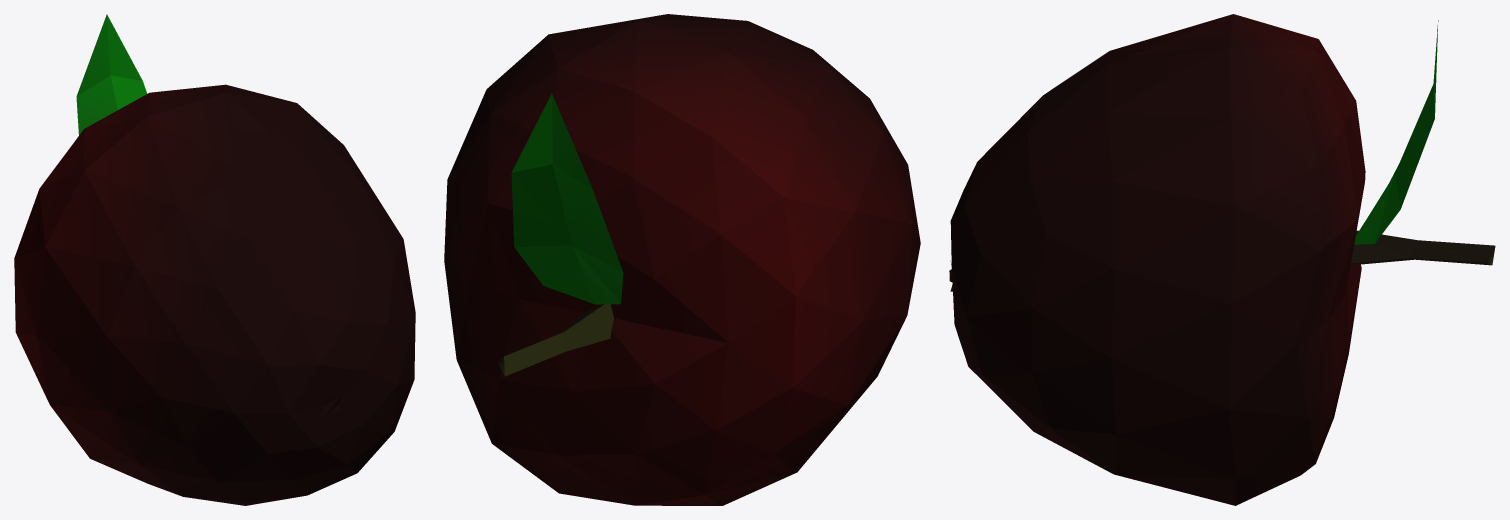
File: Apple.fbx
3 renders of one model, left to right at view 1: azimuth 30°, elevation 25°; view 2: azimuth 150°, elevation 25°; view 3: azimuth 270°, elevation 25°, orthographic. The views are drawn at different scales.
Visible parts, largest first — view 1: shot_20260405070138.001; view 2: shot_20260405070138.001; view 3: shot_20260405070138.001.
Part boxes in pixels (bbox=[...]): shot_20260405070138.001: bbox=[14, 14, 415, 505]; shot_20260405070138.001: bbox=[444, 14, 920, 505]; shot_20260405070138.001: bbox=[949, 14, 1495, 505].
Size of the model in its own units: 123 by 145 by 159.
